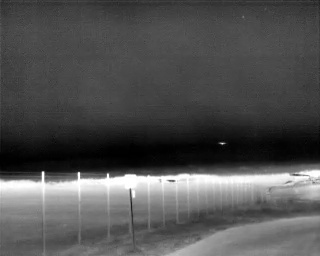AIRPLANE: (218, 139, 227, 147)
